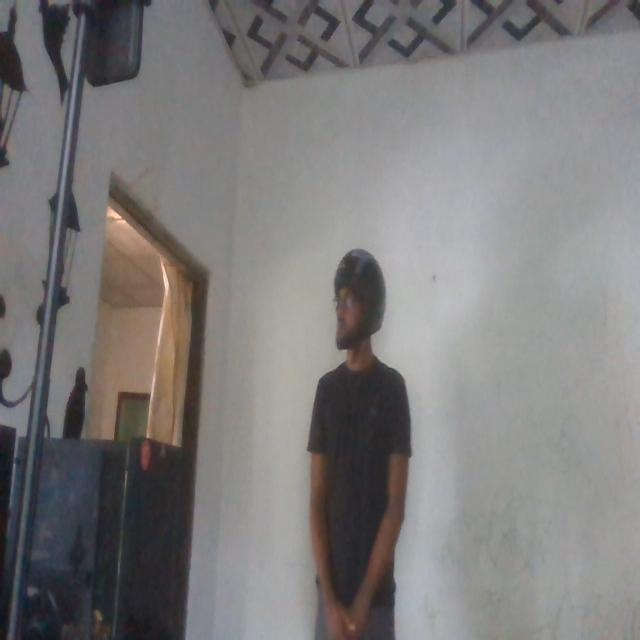Helmet_Wearer: (336, 242, 384, 362)
Person: (301, 237, 421, 630)
